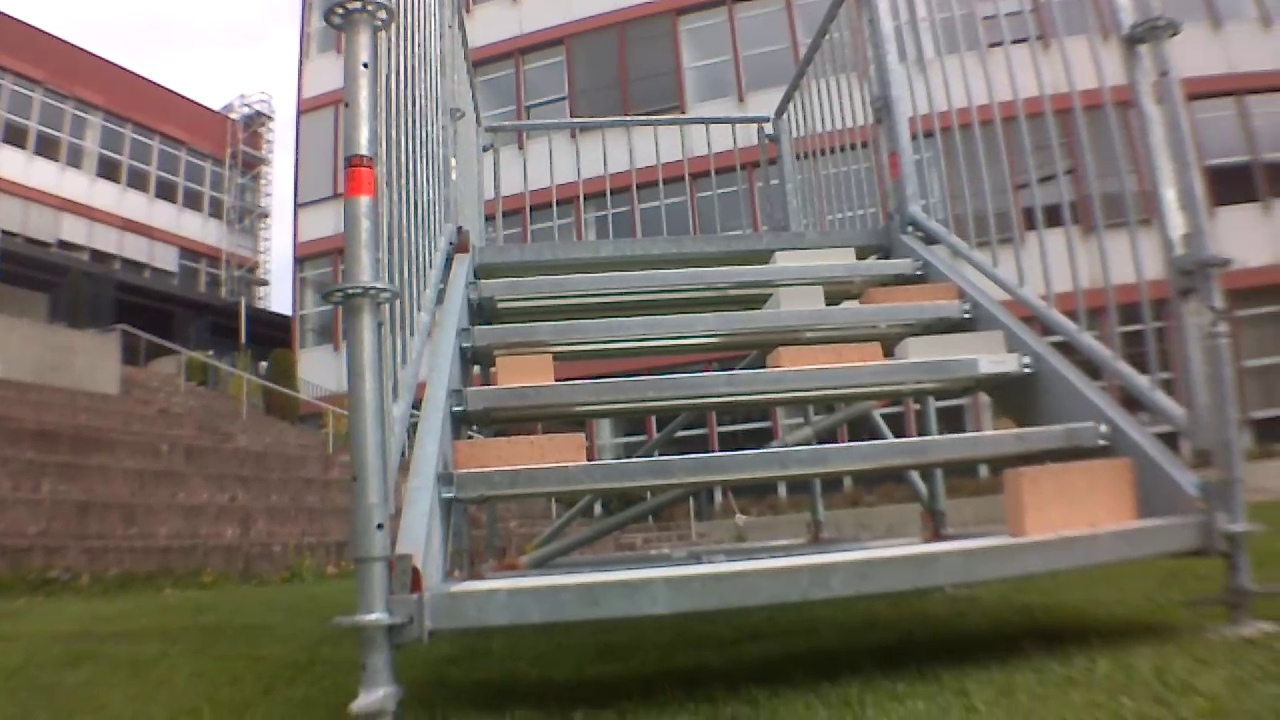brick: (989, 456, 1137, 541), (450, 433, 590, 474), (898, 324, 1012, 360), (764, 340, 881, 371), (869, 279, 968, 313), (491, 355, 554, 391), (764, 247, 864, 266), (766, 283, 824, 313)
edge: (440, 533, 1214, 633), (442, 421, 1120, 505), (446, 340, 1046, 411), (456, 310, 992, 339), (467, 226, 898, 262), (460, 264, 926, 284)
stairs: (369, 0, 1240, 708)
steps: (411, 223, 1199, 638)
